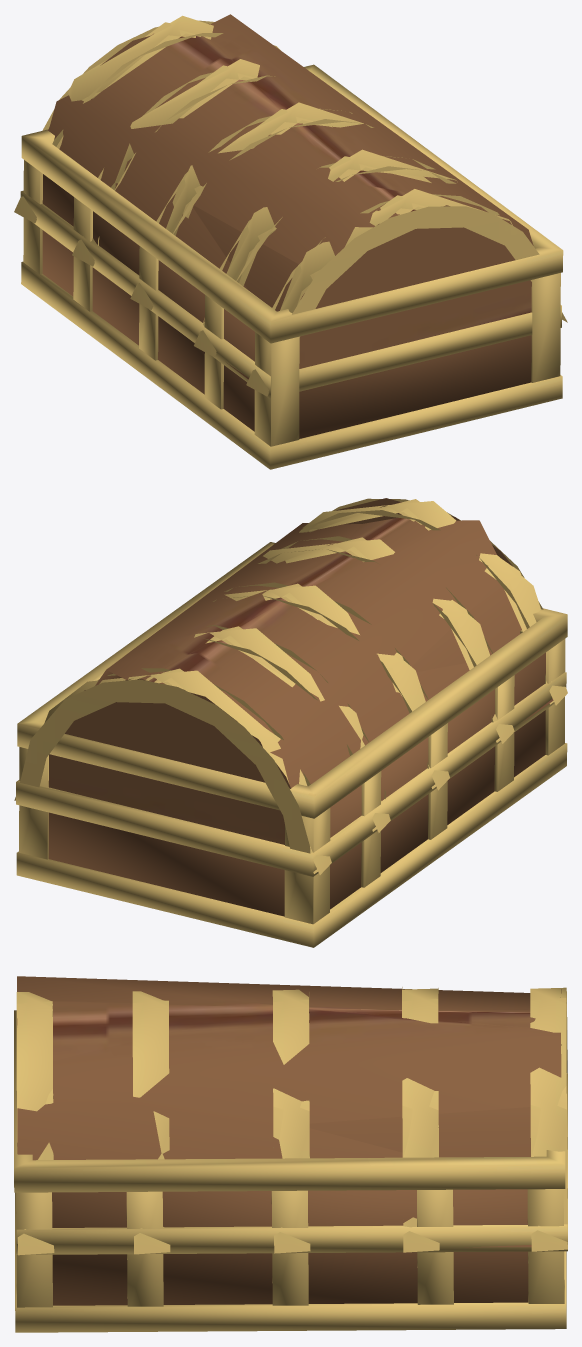
The model's file is chest compress.fbx.
The picture shows the model from 3 angles, top to bottom: view 1: azimuth 30°, elevation 25°; view 2: azimuth 150°, elevation 25°; view 3: azimuth 270°, elevation 25°; orthographic projection. The views are drawn at different scales.
Parts seen in each view (by area): view 1: Tube_2_2, Boite, Cube_3, Cylinder_3, Cube_1, Cube, Tube_2, Tube_5, Renfort_angle_1, Tube, Tube_4, Tube_3 (+5 smaller); view 2: Tube_2_2, Boite, Cube_3, Cylinder_1, Cube_1, Cube, Tube_5, Tube_2, Tube_4, Tube, Tube_3, Renfort_angle_3 (+5 smaller); view 3: Tube_2_2, Boite, Cube_3, Cube_1, Cube, Tube_5, Tube, Tube_2, Tube_3, Tube_4, Renfort_angle, Renfort_angle_2 (+3 smaller).
Part boxes in pixels (box(x1,y1,x2,y2)): Tube_2_2: box(48, 14, 533, 379); Boite: box(42, 174, 531, 438); Cube_3: box(21, 64, 563, 343); Cylinder_3: box(299, 214, 531, 368); Cube_1: box(21, 261, 562, 469); Cube: box(20, 190, 561, 398); Tube_2: box(246, 189, 567, 396); Tube_5: box(14, 15, 280, 223); Renfort_angle_1: box(254, 332, 299, 446); Tube: box(130, 102, 373, 309); Tube_4: box(194, 149, 457, 357); Tube_3: box(72, 59, 275, 266); Tube_2_2: box(84, 498, 553, 788); Boite: box(48, 652, 545, 916); Cube_3: box(17, 542, 567, 818); Cylinder_1: box(48, 679, 284, 844); Cube_1: box(16, 743, 567, 947); Cube: box(16, 672, 566, 876); Tube_5: box(14, 668, 331, 874); Tube_2: box(299, 498, 567, 705); Tube_4: box(258, 536, 514, 743); Tube: box(213, 582, 449, 790); Tube_3: box(130, 625, 390, 832); Renfort_angle_3: box(284, 808, 330, 924); Tube_2_2: box(17, 976, 561, 1247); Boite: box(52, 1189, 528, 1305); Cube_3: box(14, 1010, 565, 1192); Cube_1: box(15, 1192, 566, 1332); Cube: box(16, 1073, 567, 1254); Tube_5: box(530, 987, 567, 1251); Tube: box(272, 989, 310, 1253); Tube_2: box(16, 992, 54, 1255); Tube_3: box(402, 987, 439, 1252); Tube_4: box(132, 991, 170, 1254); Renfort_angle: box(16, 1192, 52, 1307); Renfort_angle_2: box(527, 1189, 564, 1303).
Bounding box in the file's own units: 4384 × 3191 × 6224.
